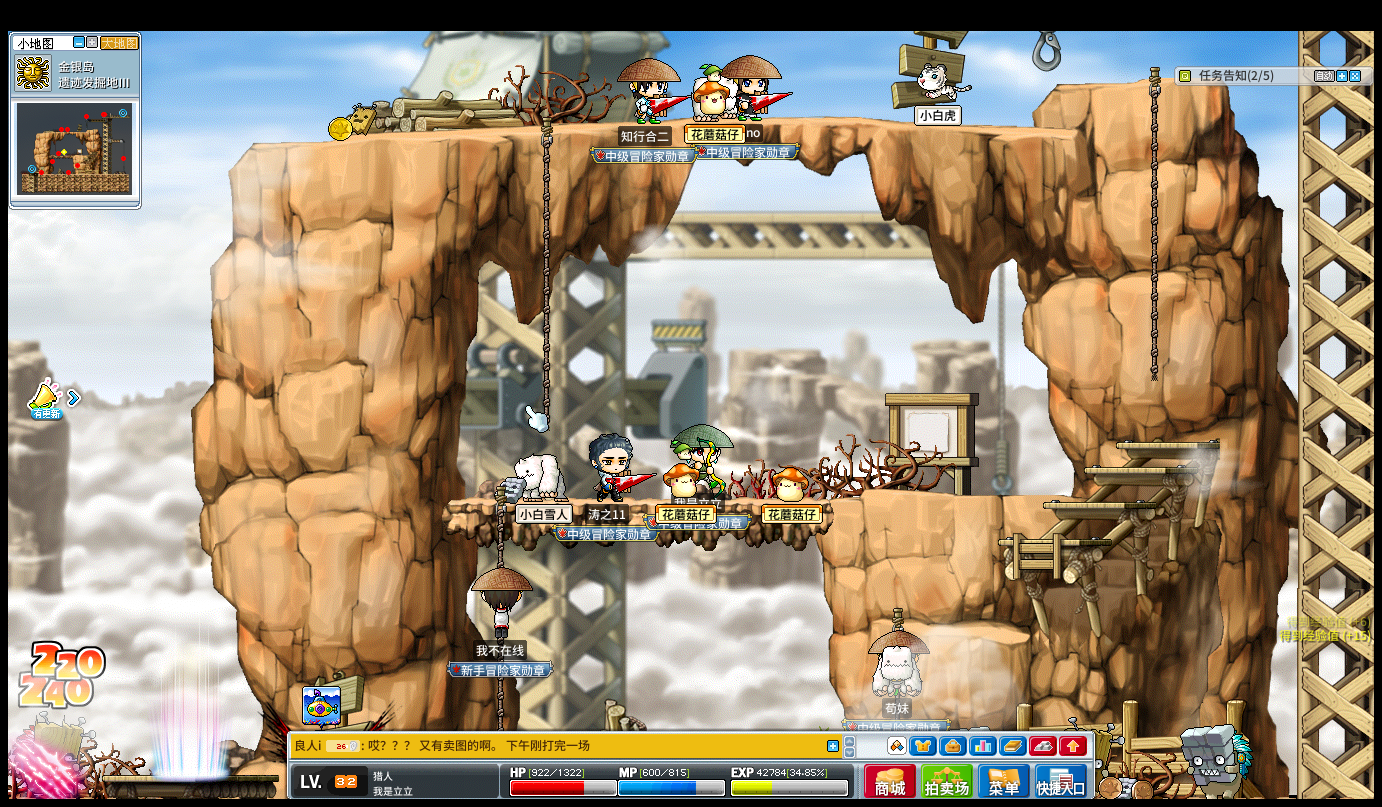floor: (223, 114, 1066, 145), (451, 497, 823, 508), (920, 622, 1031, 643), (906, 491, 1077, 502), (1051, 74, 1166, 90), (994, 536, 1114, 550), (995, 533, 1108, 546), (1078, 464, 1194, 474), (1041, 498, 1154, 508), (1114, 440, 1217, 450)
monster: (17, 712, 94, 792), (1181, 724, 1253, 795)
rope: (1145, 56, 1161, 383), (539, 116, 551, 431), (493, 491, 505, 568), (496, 677, 505, 728)
